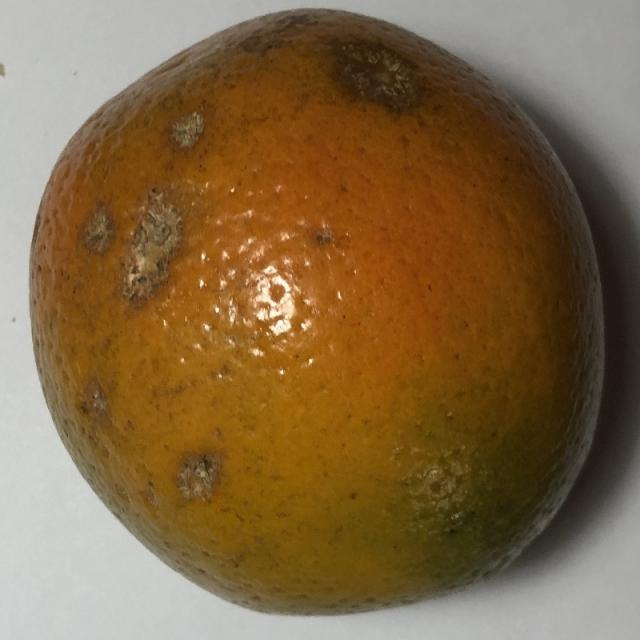canker: (10, 4, 630, 637)
